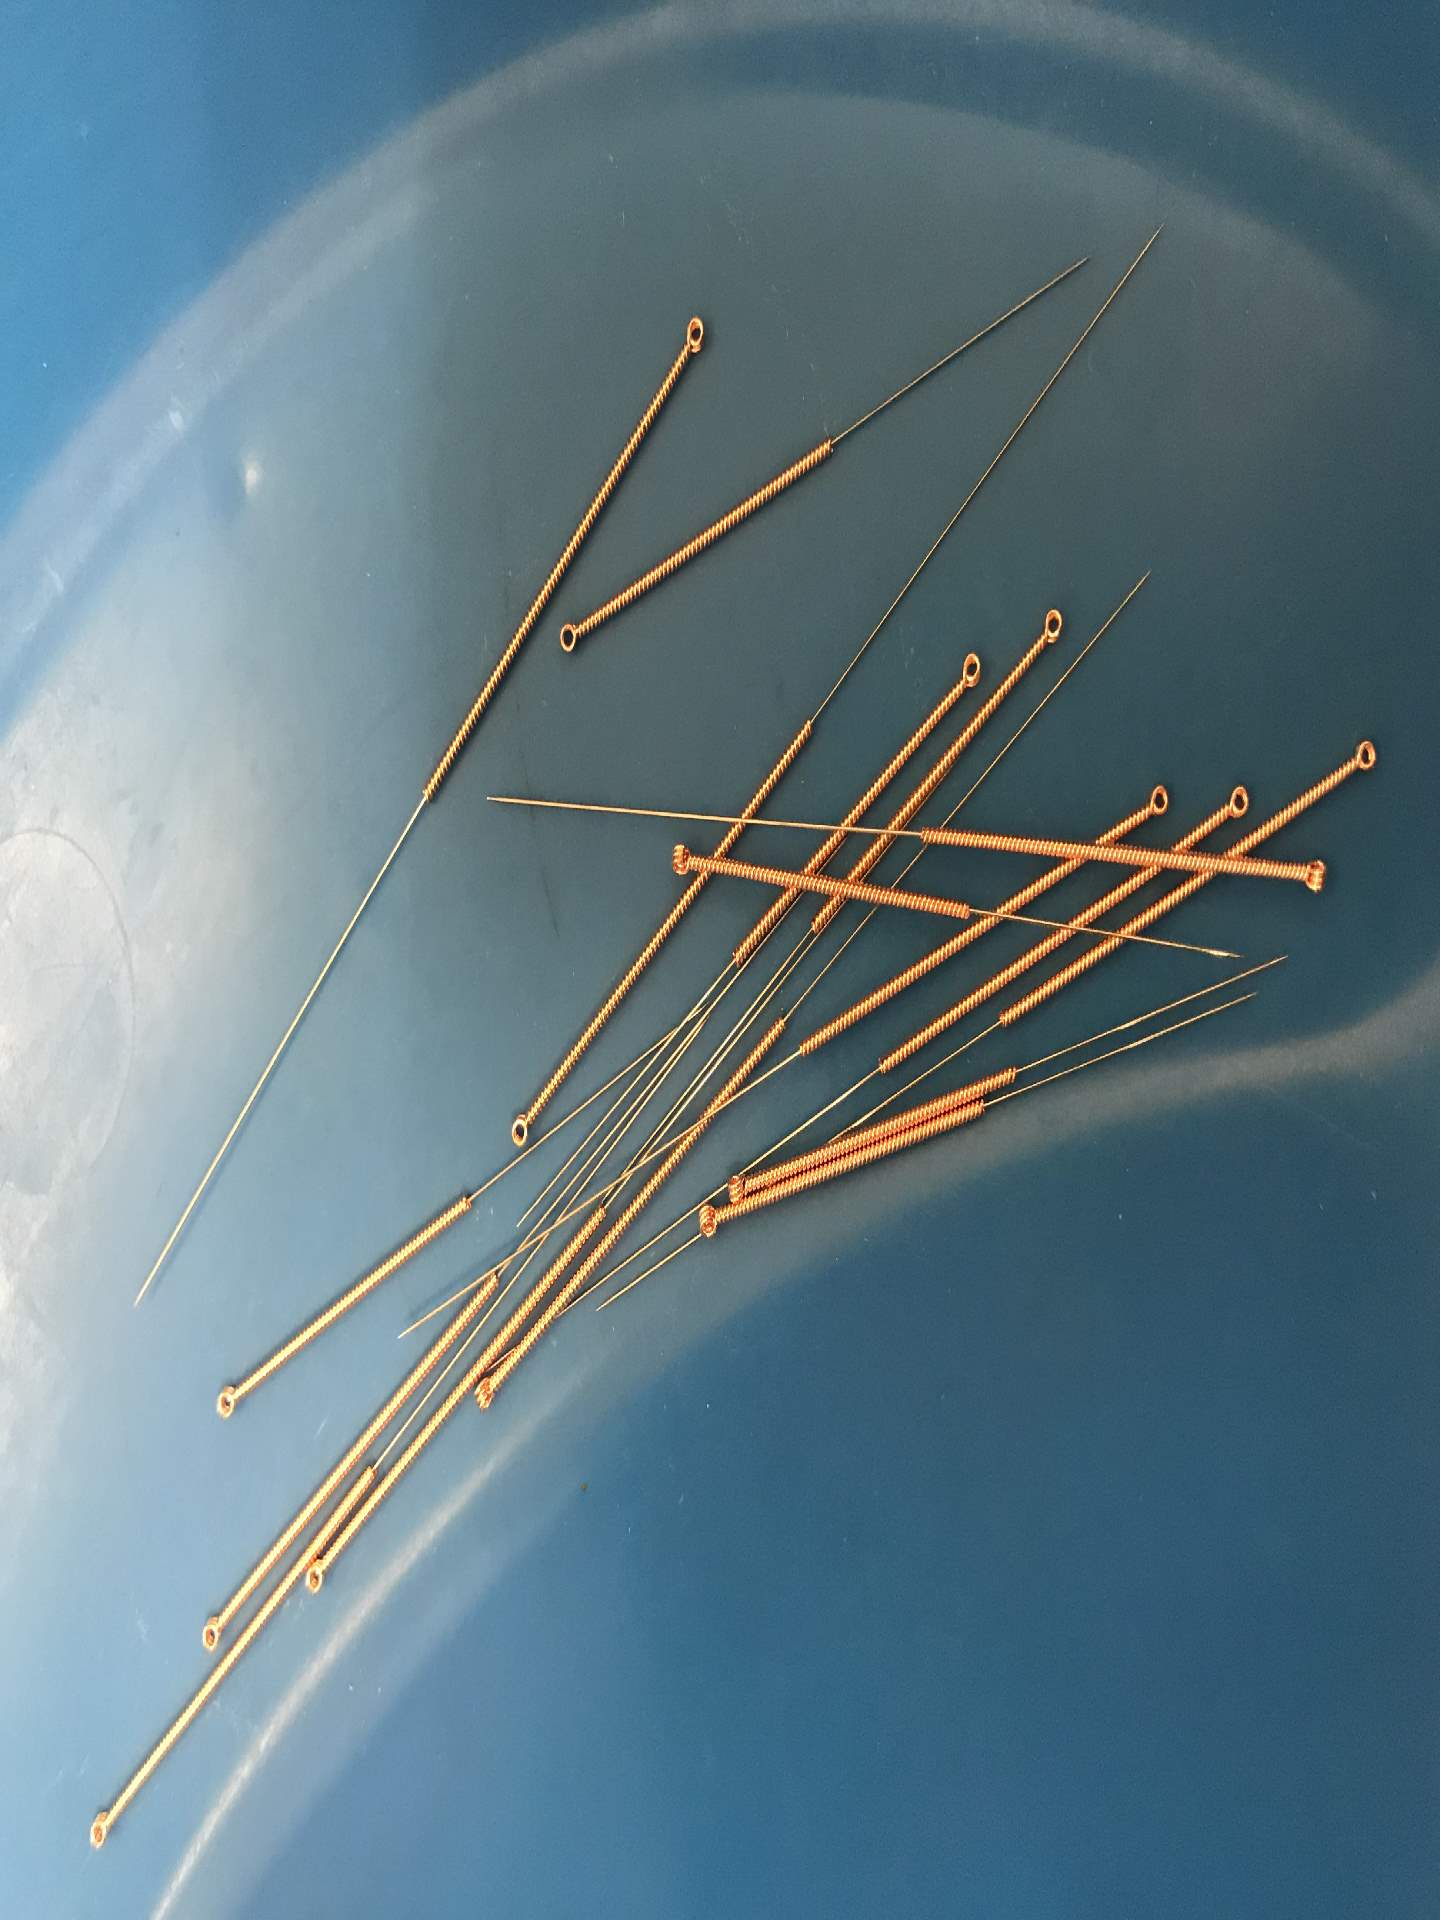needle: (76, 1804, 123, 1861), (1286, 848, 1334, 903), (670, 308, 715, 364), (548, 612, 593, 664), (1029, 599, 1069, 652), (1215, 773, 1255, 825), (1342, 729, 1383, 782), (501, 1102, 542, 1154), (206, 1376, 247, 1427), (194, 1609, 231, 1657), (690, 1199, 728, 1246), (1139, 773, 1175, 821), (467, 1373, 507, 1417), (947, 649, 985, 694), (663, 838, 699, 884), (720, 1166, 756, 1206), (299, 1559, 331, 1599)
